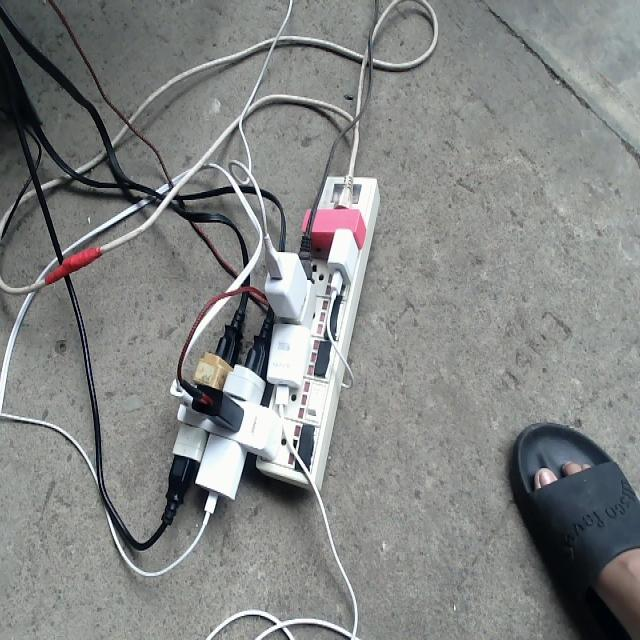-: (161, 172, 379, 539)
